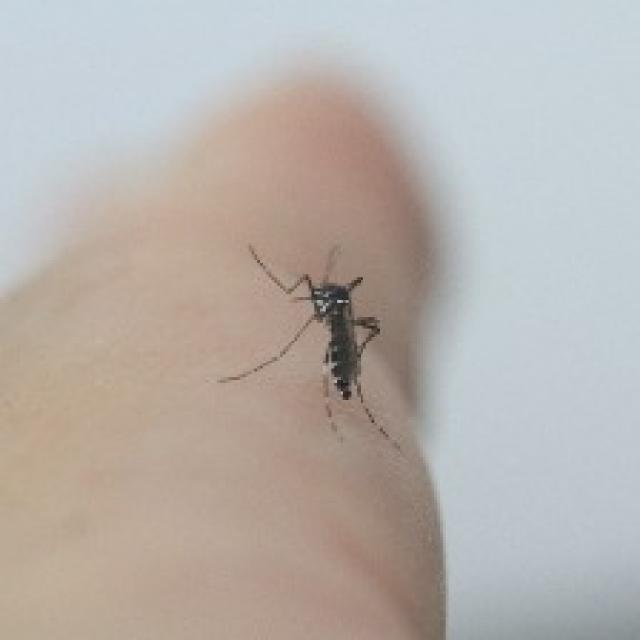aedes: (214, 237, 403, 452)
